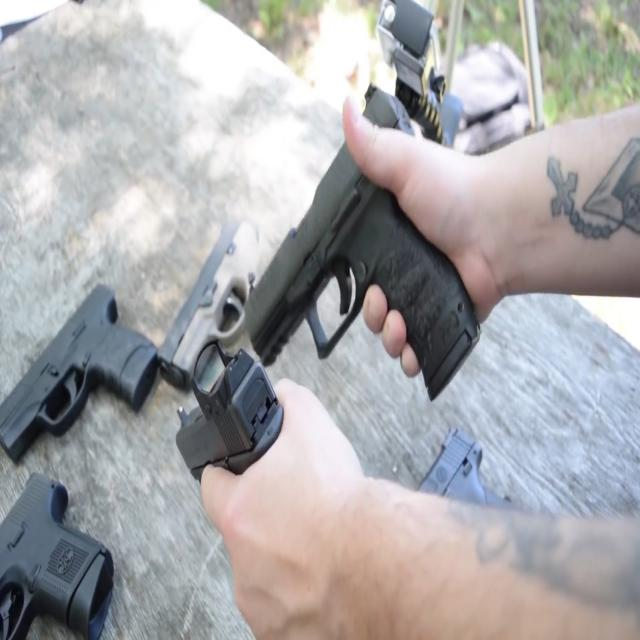handgun: (247, 79, 480, 391), (148, 198, 307, 422), (0, 267, 158, 467), (168, 325, 297, 555)
